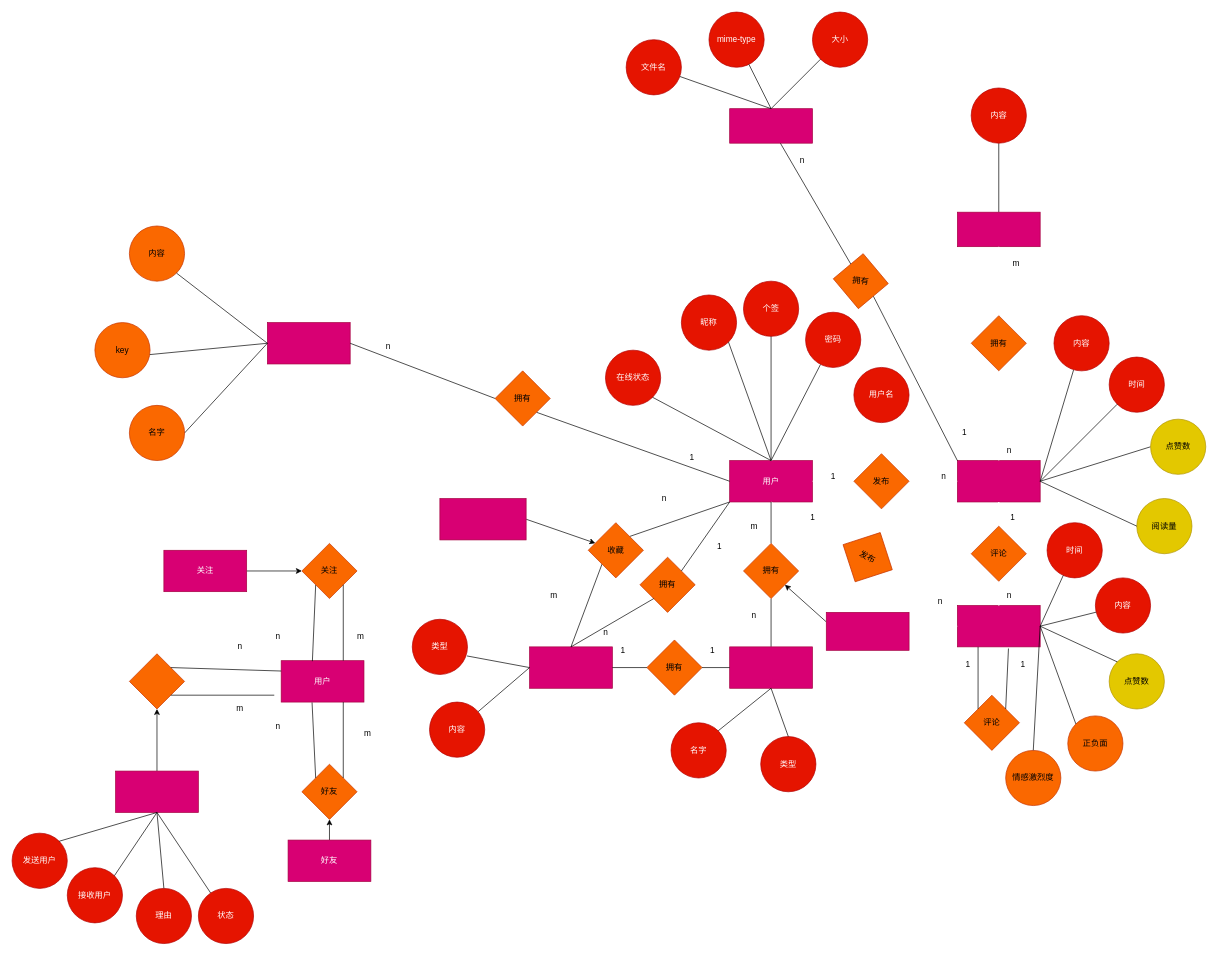
Image size: 1218x956. Some labels were removed from this diagram. Each missing label, with the centre of its shape:
"AI会话" belongs at [308,343].
"好友请求" belongs at [156,791].
"文章" belongs at [998,481].
"标签" belongs at [998,229].
"用户_收藏" belongs at [482,519].
"用户_聊天室" belongs at [867,631].
"用户评论" belongs at [998,626].
"聊天室" belongs at [770,667].
"聊天记录" belongs at [570,667].
"请求" belongs at [157,681].
"配图" belongs at [770,125].
